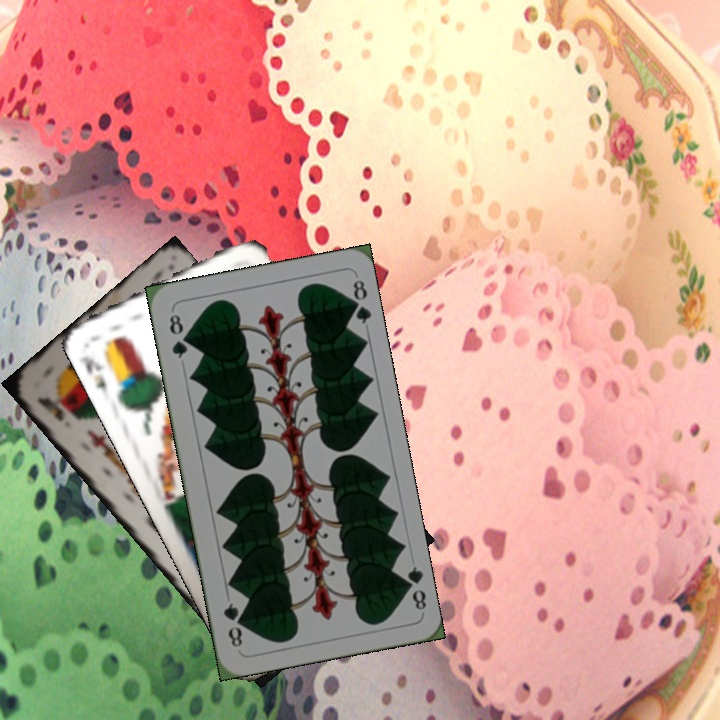EK: (81, 352, 111, 399)
G8: (397, 562, 429, 613), (165, 310, 191, 361)
SK: (32, 393, 67, 424)
